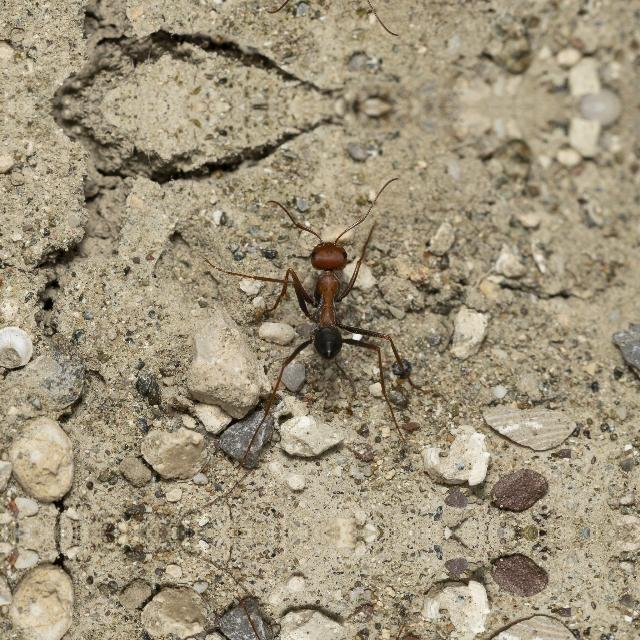Cataglyphis: (250, 206, 408, 392)
